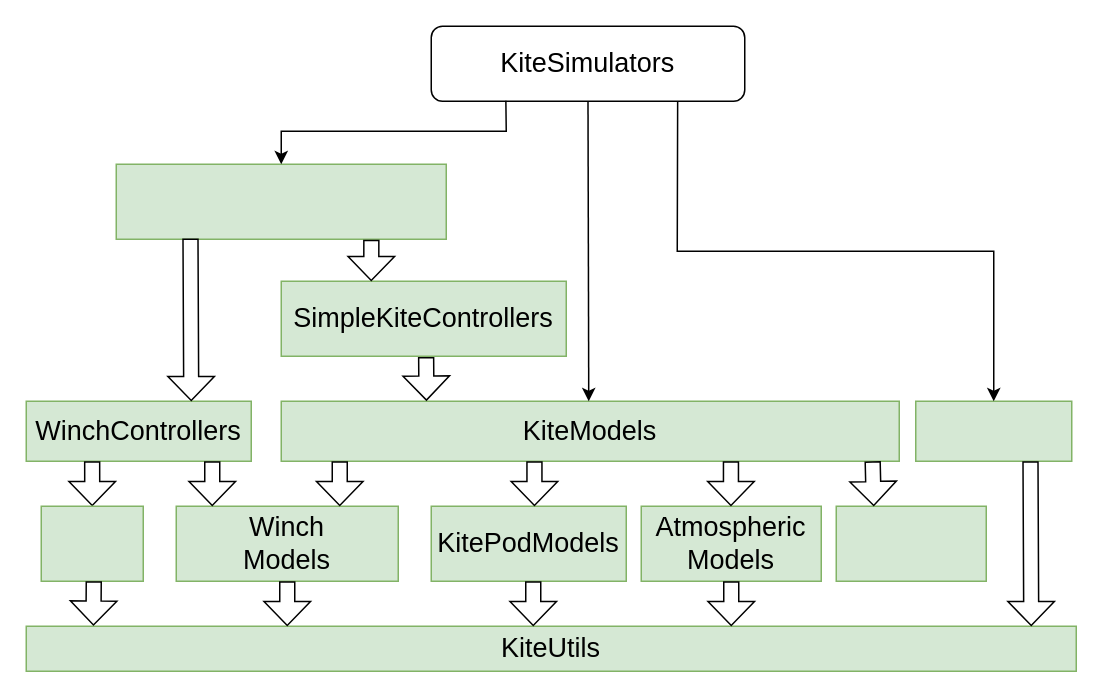
Image size: 1103x698. Some labels were removed from this diagram. The centre of each missing label's shape, as x and y in pixels:
KiteControllers: [280,201]
KiteViewers: [993,430]
Tether Models: [91,543]
VortexStep Method: [910,543]
